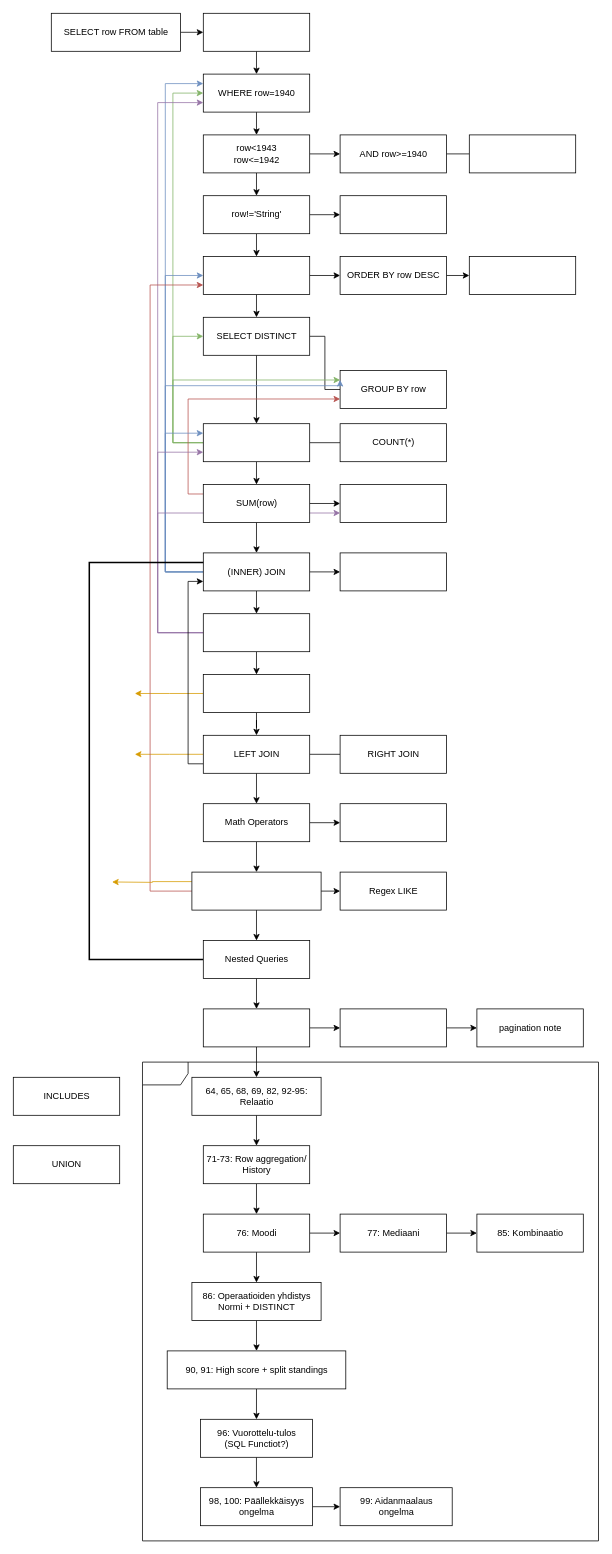
This 612x1554 diagram has some shape labels left out. Each missing label, with the box of its shape:
COUNT(1): (203, 423, 310, 462)
EI VENN DIAGRAMMEJA: (339, 552, 446, 591)
Kaksi liitäntää: (203, 674, 310, 712)
LIMIT: (203, 1008, 310, 1047)
MAX(row): (339, 484, 446, 522)
Normalisaation 3. aste (moni-moni suhde): (203, 613, 310, 652)
OFFSET: (339, 1008, 446, 1047)
OR row>=1940: (469, 134, 576, 173)
ORDER BY row (ASC): (203, 256, 310, 294)
ORDER BY row, row2: (469, 256, 576, 294)
row!=1940: (339, 195, 446, 234)
SELECT row, row2: (203, 13, 310, 51)
SQL programming (leap years): (339, 803, 446, 842)
String Operators LENGHT, UPPER, LOWER concatenation (row || row): (191, 871, 321, 910)
Vaikeat: (142, 1061, 598, 1541)
